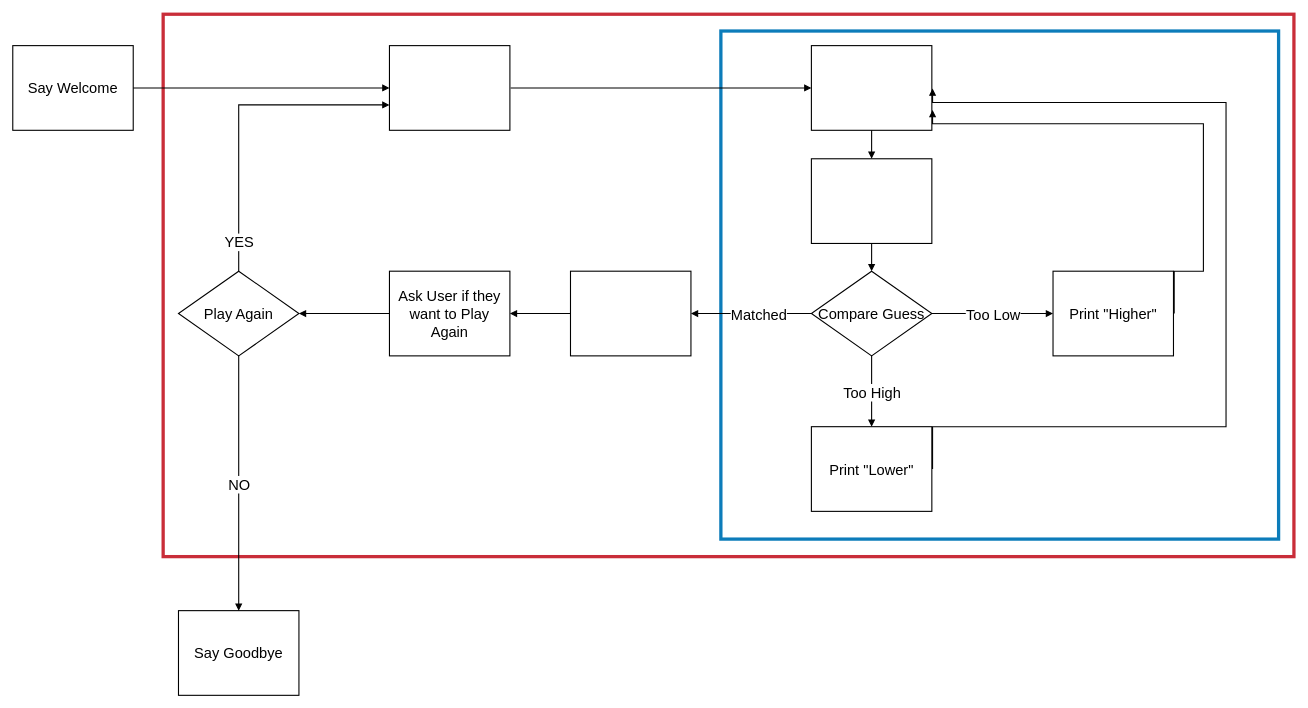
This 1308x708 diagram has some shape labels left out. Each missing label, with the centre of its shape:
Get a Guess from the User: point (871, 88)
Print "Congrats!" and display Guess Counter: point (630, 313)
Select a Random Number and reset Guess Counter: point (449, 88)
Update Guess Counter: point (871, 201)
